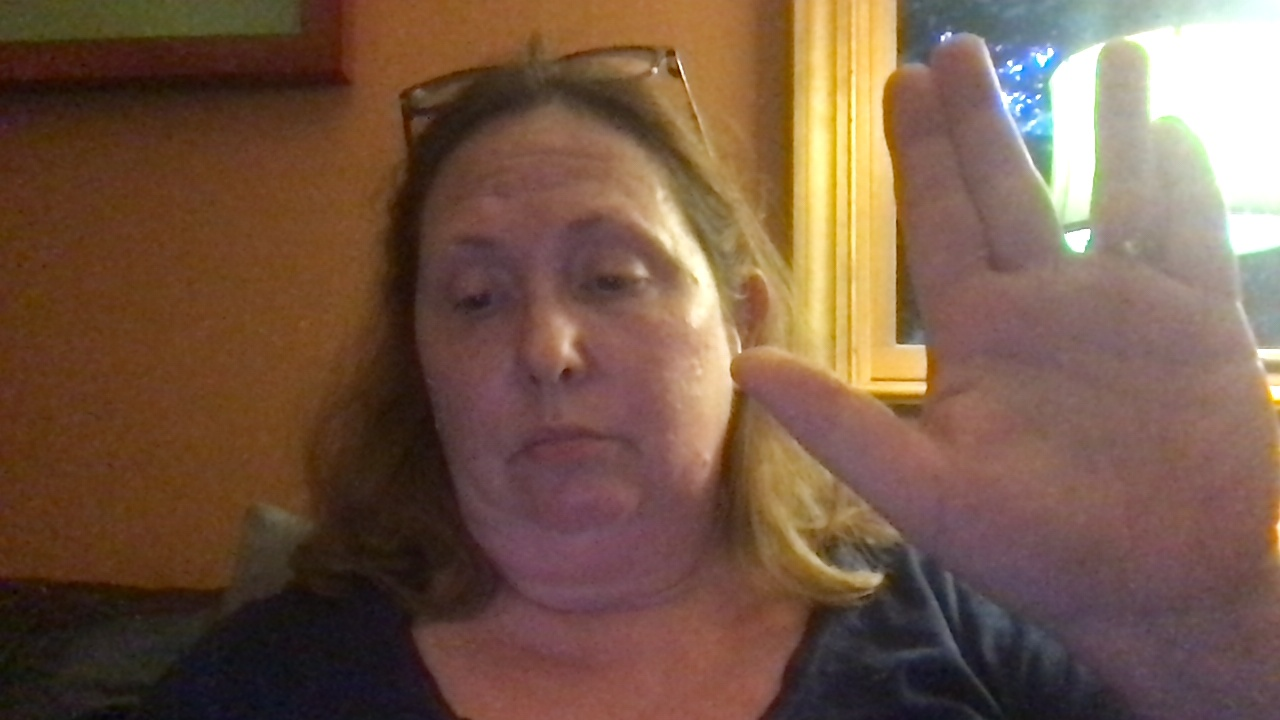livelong: (725, 34, 1280, 620)
